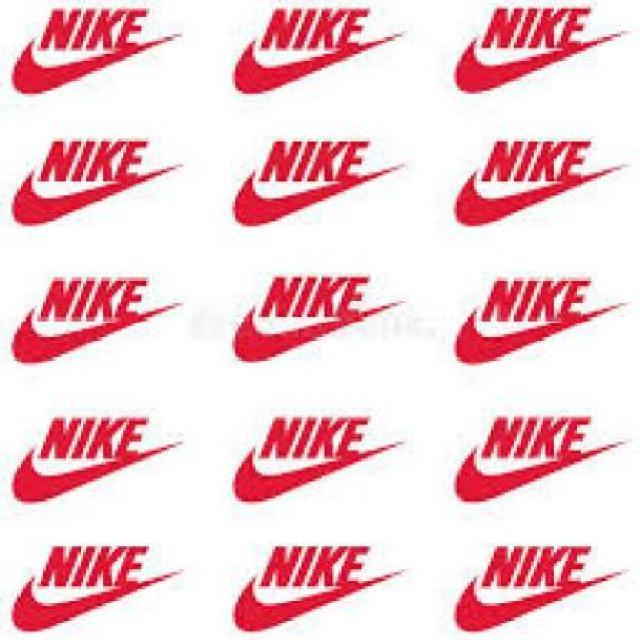Nike: (221, 0, 402, 97), (448, 3, 629, 99), (5, 269, 181, 366), (5, 133, 181, 227), (227, 133, 403, 227), (224, 269, 403, 360), (445, 130, 621, 221), (448, 272, 624, 363), (5, 408, 181, 499), (224, 411, 400, 502), (448, 408, 624, 499), (445, 538, 621, 629), (227, 536, 403, 627), (3, 538, 179, 629), (9, 0, 178, 94)
